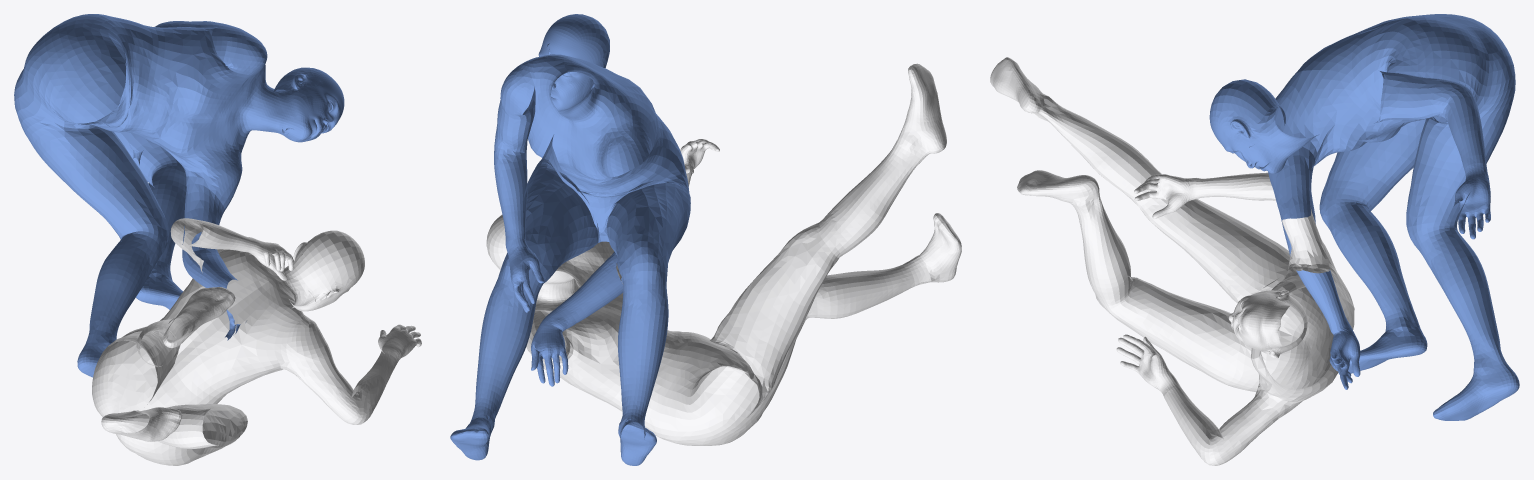
Rendered from hip-throw-5-land.glb.
The picture shows the model from 3 angles, left to right: view 1: azimuth 30°, elevation 25°; view 2: azimuth 150°, elevation 25°; view 3: azimuth 270°, elevation 25°; orthographic projection. The views are drawn at different scales.
Visible parts, largest first — view 1: p1, p0; view 2: p1, p0; view 3: p1, p0.
Boxes of the visible parts, <box> form: p1: <box>14,14,344,377</box>; p0: <box>92,218,421,465</box>; p1: <box>450,14,690,465</box>; p0: <box>486,63,961,445</box>; p1: <box>1209,14,1519,420</box>; p0: <box>990,57,1354,465</box>.
Bounding box in the file's own units: 1.04 × 1.07 × 1.34.
